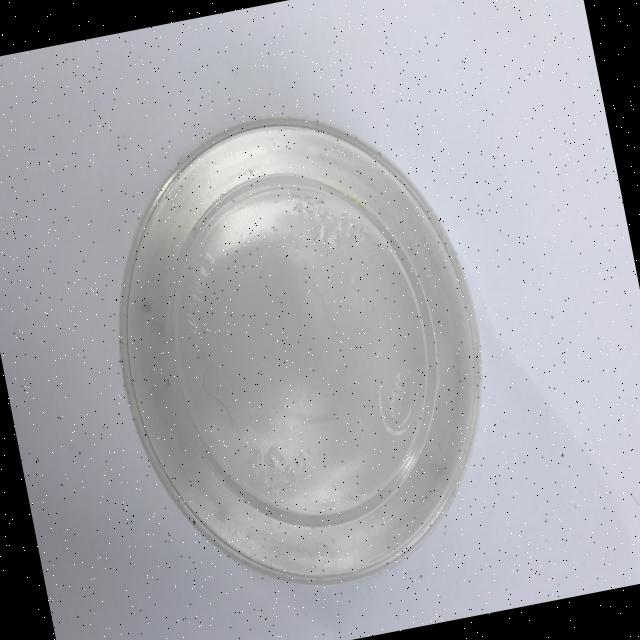plastic: (78, 84, 522, 618)
